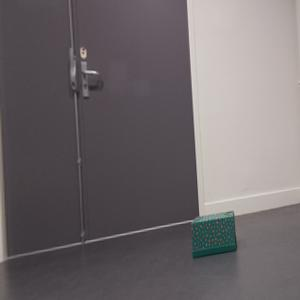small: (189, 210, 240, 259)
